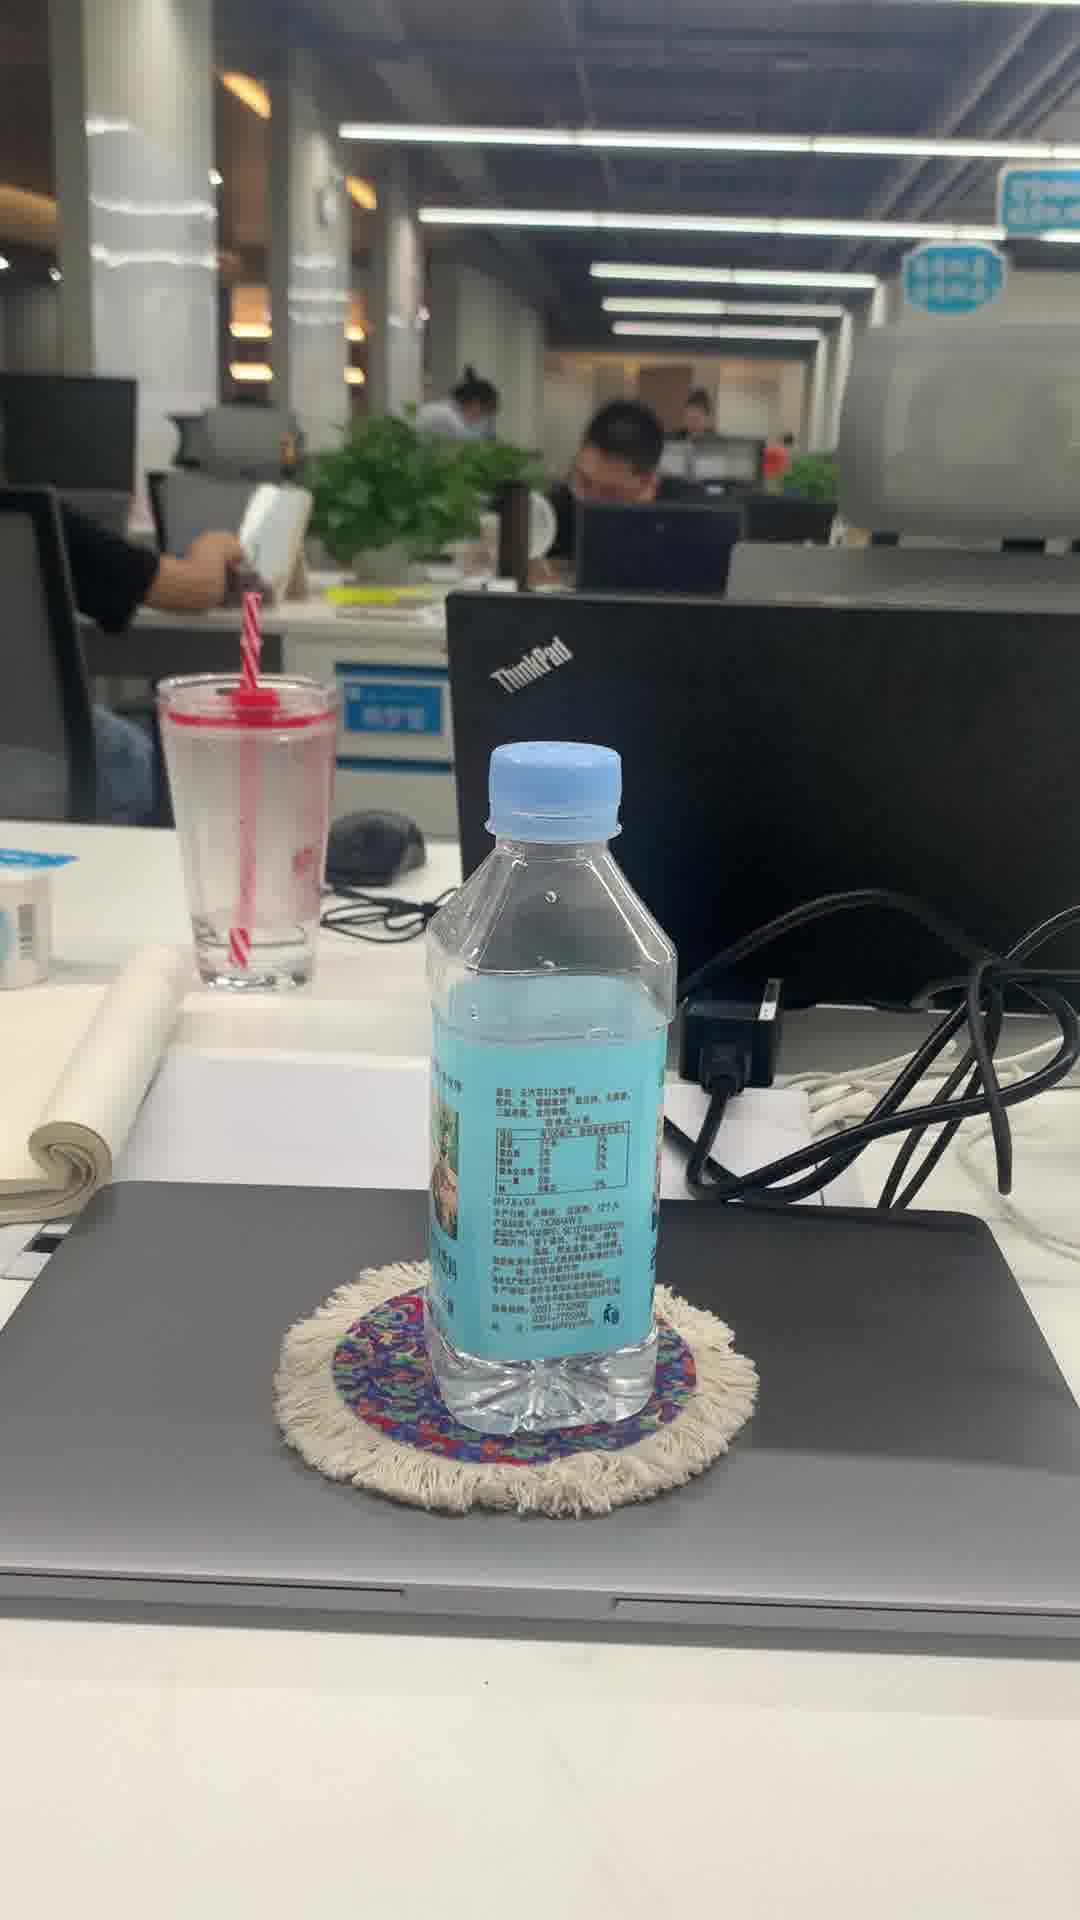水瓶: (421, 731, 676, 1447)
